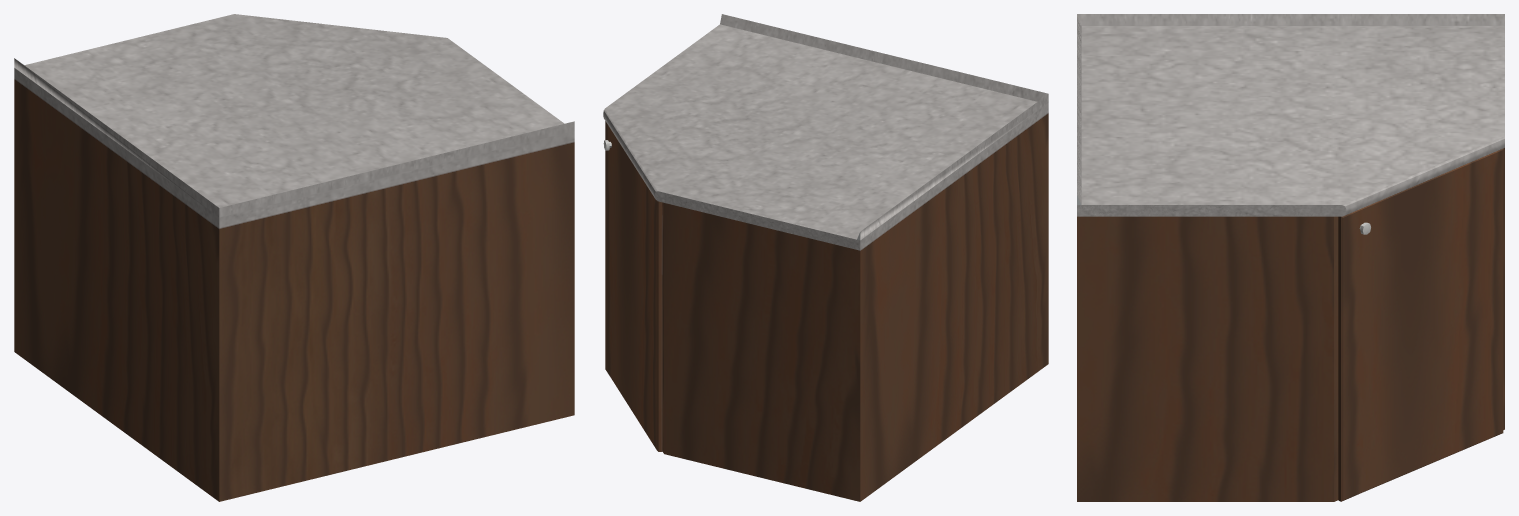
Rendered from corner_cupboard.glb.
The picture shows the model from 3 angles, left to right: view 1: azimuth 30°, elevation 25°; view 2: azimuth 150°, elevation 25°; view 3: azimuth 270°, elevation 25°; orthographic projection. The views are drawn at different scales.
Parts seen in each view (by area): view 1: KitchenCabinet90Degrees; view 2: KitchenCabinet90Degrees; view 3: KitchenCabinet90Degrees.
Boxes of the visible parts, box(x1,y1,x2,y2) form: KitchenCabinet90Degrees: box(14, 14, 574, 501); KitchenCabinet90Degrees: box(603, 14, 1048, 501); KitchenCabinet90Degrees: box(1077, 14, 1504, 501).
Size of the model in its own units: 1.09 by 0.8613 by 1.09.
Materials: 1 (1 with a texture image).
